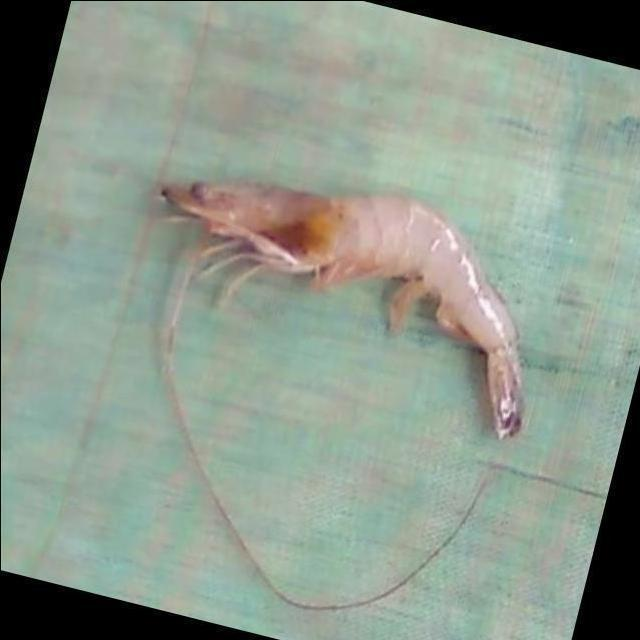shrimp: (159, 181, 522, 437)
